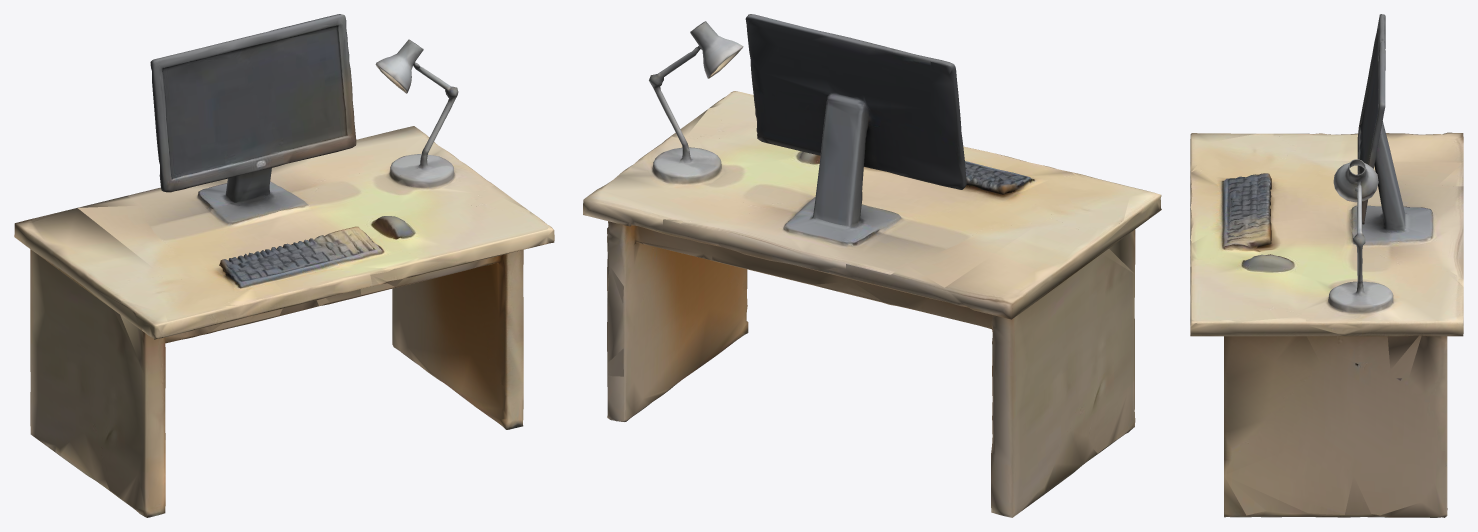
File: desk.glb
3 renders of one model, left to right at view 1: azimuth 30°, elevation 25°; view 2: azimuth 150°, elevation 25°; view 3: azimuth 270°, elevation 25°, orthographic. The views are drawn at different scales.
Visible parts, largest first — view 1: model.001; view 2: model.001; view 3: model.001.
Part boxes in pixels (x1=…): model.001: x1=14, y1=14, x2=554, y2=517; model.001: x1=583, y1=14, x2=1161, y2=517; model.001: x1=1190, y1=14, x2=1463, y2=517.
Size of the model in its own units: 1.75 by 1.58 by 1.07.
1 material, 1 textured.
